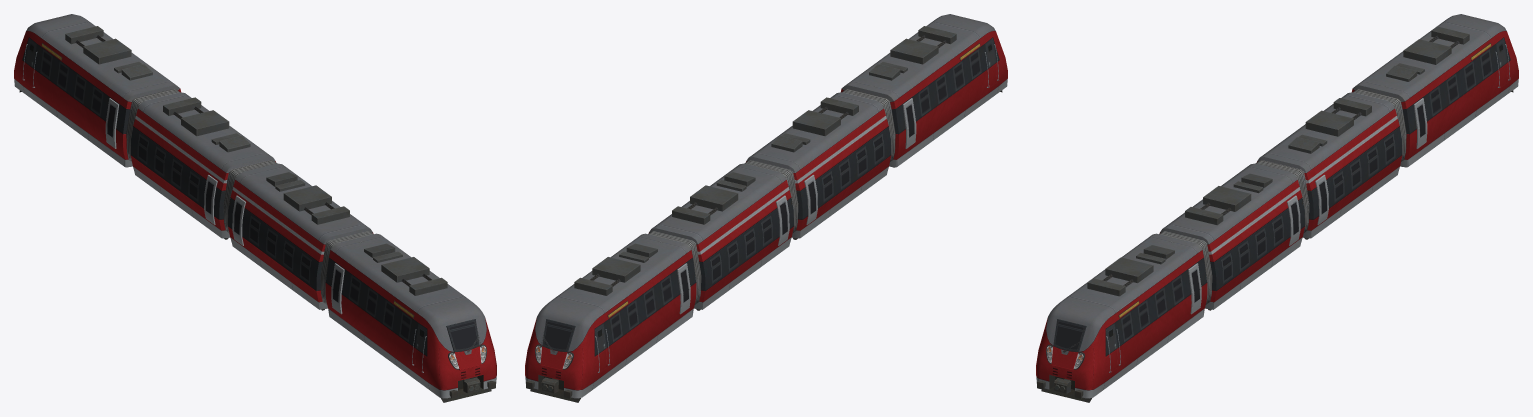
File: Train_Europe_With_Carriages.glb
3 renders of one model, left to right at view 1: azimuth 30°, elevation 25°; view 2: azimuth 150°, elevation 25°; view 3: azimuth 330°, elevation 25°, orthographic.
Visible parts, largest first — view 1: Train_Europe_With_Carriages__LOD3; view 2: Train_Europe_With_Carriages__LOD3; view 3: Train_Europe_With_Carriages__LOD3.
Boxes of the visible parts, <box> form: Train_Europe_With_Carriages__LOD3: <box>14,14,496,402</box>; Train_Europe_With_Carriages__LOD3: <box>525,14,1007,402</box>; Train_Europe_With_Carriages__LOD3: <box>1036,14,1518,402</box>.
Size of the model in its own units: 3.35 by 4.13 by 38.11.
Materials: 1 (1 with a texture image).
